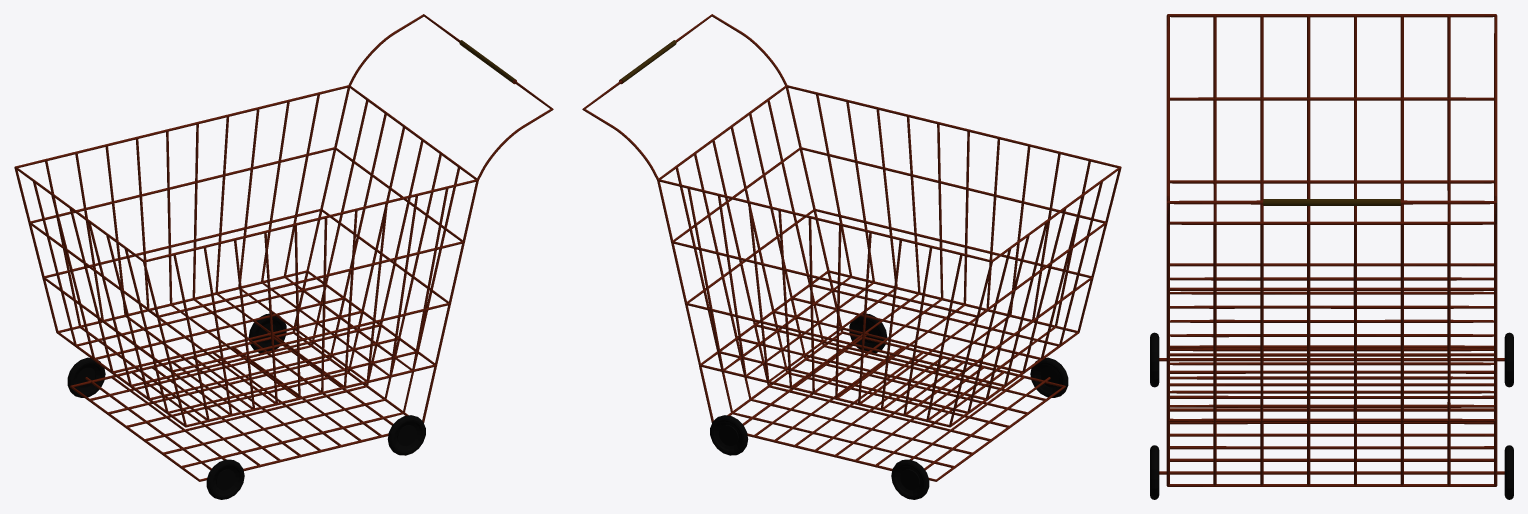
File: ShoppingCart.fbx
The picture shows the model from 3 angles, left to right: view 1: azimuth 30°, elevation 25°; view 2: azimuth 150°, elevation 25°; view 3: azimuth 270°, elevation 25°; orthographic projection. The views are drawn at different scales.
Visible parts, largest first — view 1: Cart, Torus; view 2: Cart, Torus; view 3: Cart, Torus.
Part boxes in pixels (x1,y1,x2,y2): Cart: (14,14,553,481); Torus: (67,313,425,499); Cart: (582,14,1121,481); Torus: (710,313,1068,499); Cart: (1159,14,1504,486); Torus: (1150,332,1513,499).
Bounding box in the file's own units: 370 × 264 × 222.
